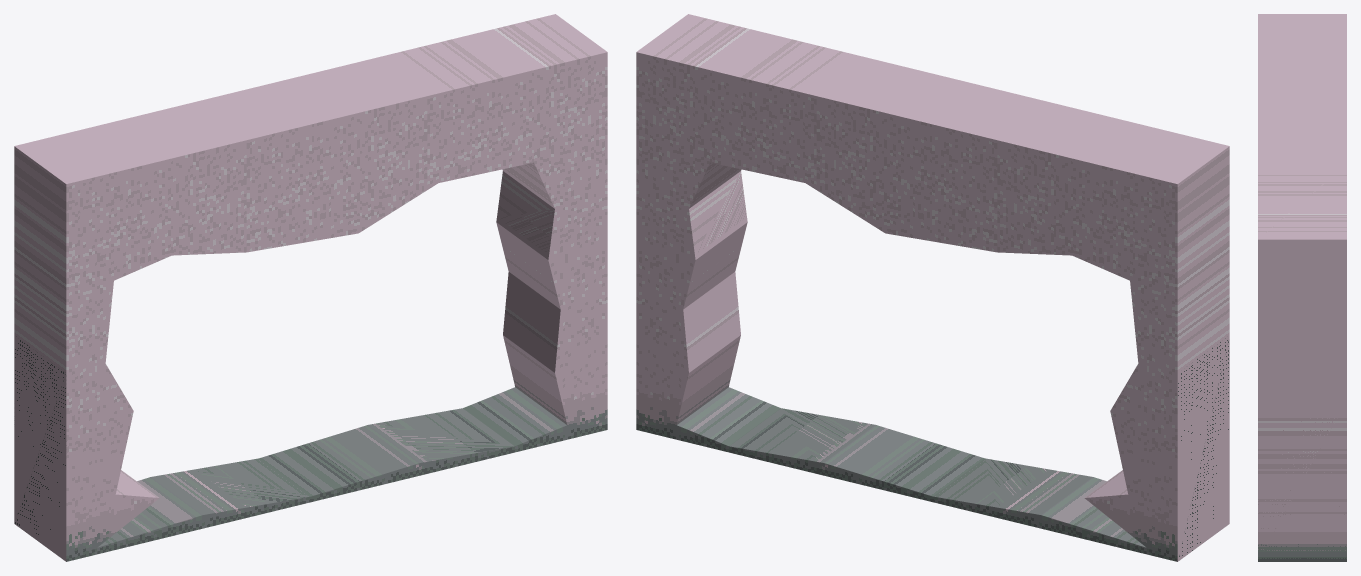
File: HoleInWall.fbx
The picture shows the model from 3 angles, left to right: view 1: azimuth 30°, elevation 25°; view 2: azimuth 150°, elevation 25°; view 3: azimuth 270°, elevation 25°; orthographic projection. The views are drawn at different scales.
Visible parts, largest first — view 1: HoleInWall; view 2: HoleInWall; view 3: HoleInWall.
Boxes of the visible parts, x1,y1,x2,y2 form: HoleInWall: (14,14,607,561); HoleInWall: (636,14,1229,561); HoleInWall: (1258,14,1346,561).
Bounding box in the file's own units: 1200 × 800 × 200.
